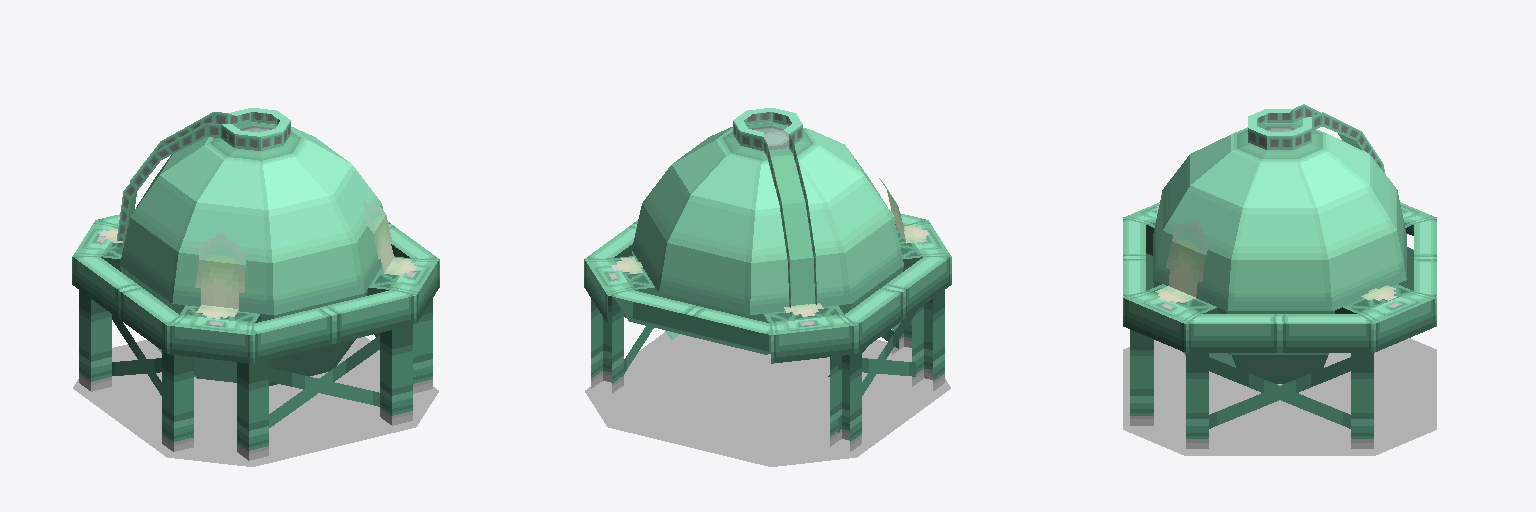
3 views of the same model, side by side, from view 1: azimuth 30°, elevation 25°; view 2: azimuth 150°, elevation 25°; view 3: azimuth 270°, elevation 25° (orthographic).
Visible parts, largest first — view 1: polygon1, polygon0, polygon2, polygon3; view 2: polygon1, polygon0, polygon2, polygon3; view 3: polygon1, polygon0, polygon2, polygon3.
Part boxes in pixels (bbox=[...]): polygon1: bbox=[116, 108, 382, 385]; polygon0: bbox=[72, 214, 439, 460]; polygon2: bbox=[73, 337, 438, 466]; polygon3: bbox=[99, 200, 416, 318]; polygon1: bbox=[632, 108, 903, 376]; polygon0: bbox=[584, 211, 951, 451]; polygon2: bbox=[585, 332, 950, 466]; polygon3: bbox=[611, 178, 928, 316]; polygon1: bbox=[1153, 104, 1406, 383]; polygon0: bbox=[1123, 202, 1436, 448]; polygon2: bbox=[1123, 338, 1436, 455]; polygon3: bbox=[1155, 203, 1396, 302].
Size of the model in its own units: 5.09 by 4.69 by 5.09.
Materials: 4 (3 with a texture image).